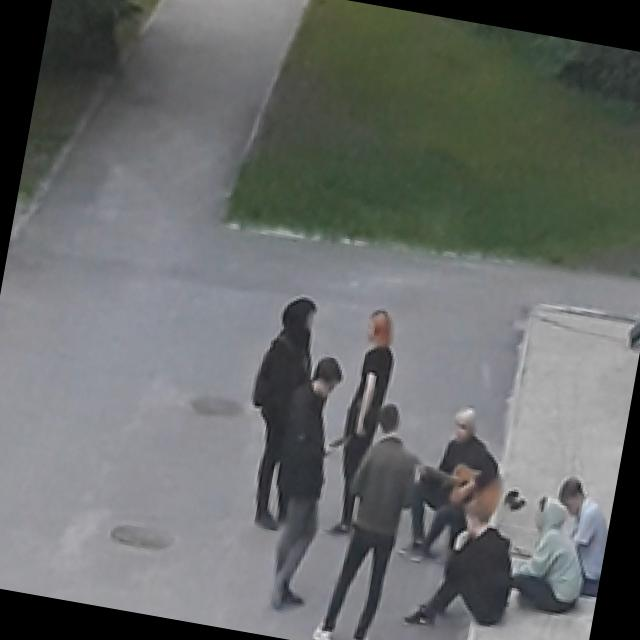person: (249, 348, 356, 616), (314, 397, 431, 640), (229, 291, 326, 532), (318, 304, 402, 538), (400, 402, 508, 570), (402, 493, 526, 639), (503, 490, 598, 619), (541, 474, 616, 600)
